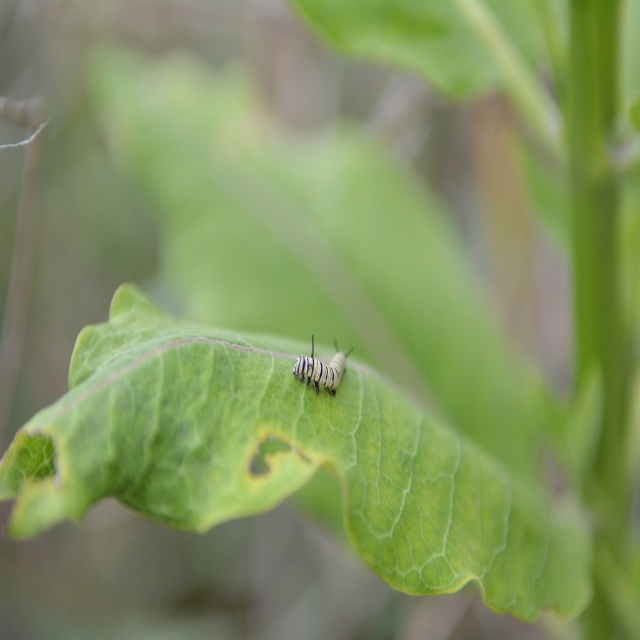Caterpillar: (290, 335, 356, 395)
